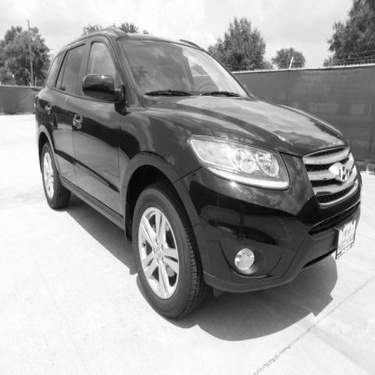car: (12, 22, 368, 327)
